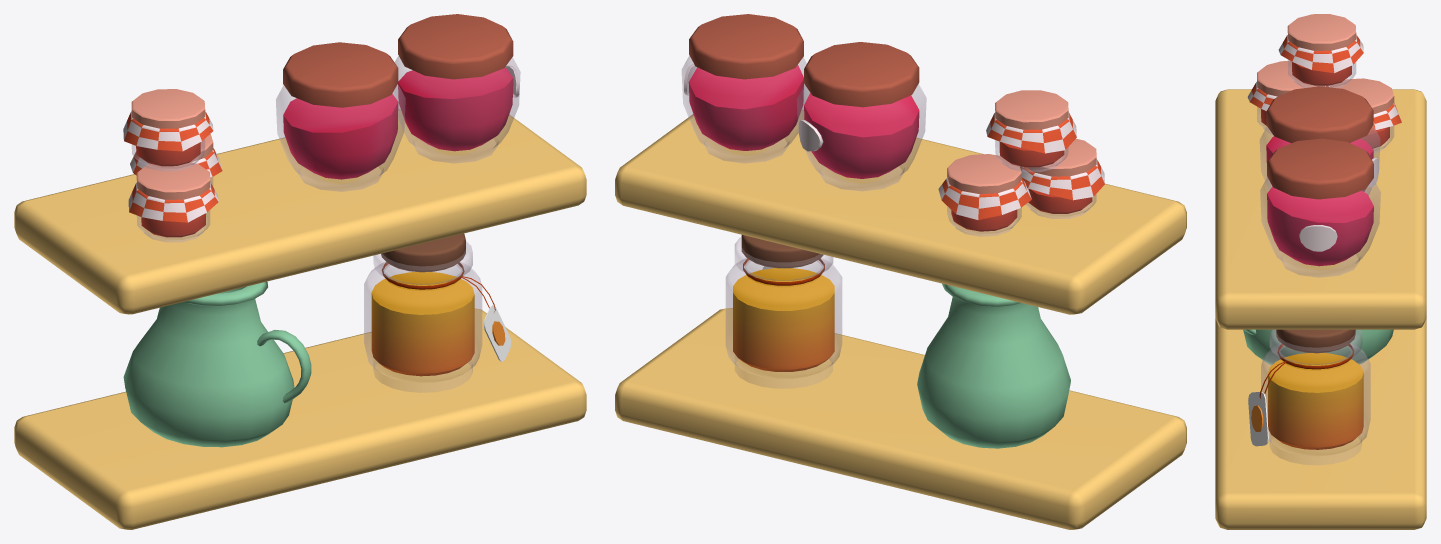
File: Decor_Kedunglo.fbx
3 views of the same model, side by side, from view 1: azimuth 30°, elevation 25°; view 2: azimuth 150°, elevation 25°; view 3: azimuth 270°, elevation 25° (orthographic). The views are drawn at different scales.
Visible parts, largest first — view 1: Decor_Kedunglo; view 2: Decor_Kedunglo; view 3: Decor_Kedunglo.
Part boxes in pixels (x1=…): Decor_Kedunglo: x1=14, y1=14, x2=586, y2=529; Decor_Kedunglo: x1=615, y1=14, x2=1186, y2=529; Decor_Kedunglo: x1=1215, y1=14, x2=1426, y2=529.
Bounding box in the file's own units: 129 × 96.58 × 54.23.
